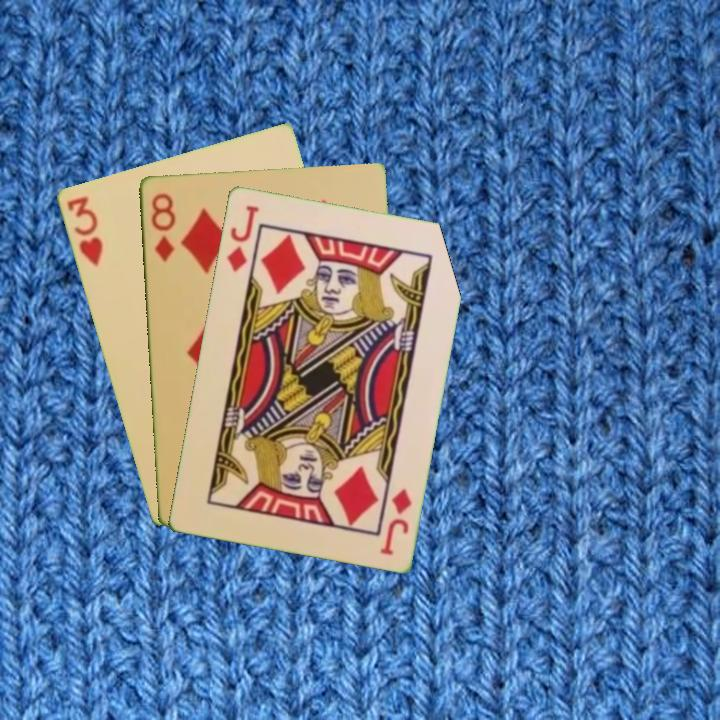3h: (63, 192, 106, 269)
8d: (147, 189, 178, 265)
Jd: (222, 201, 261, 274), (376, 484, 415, 557)
